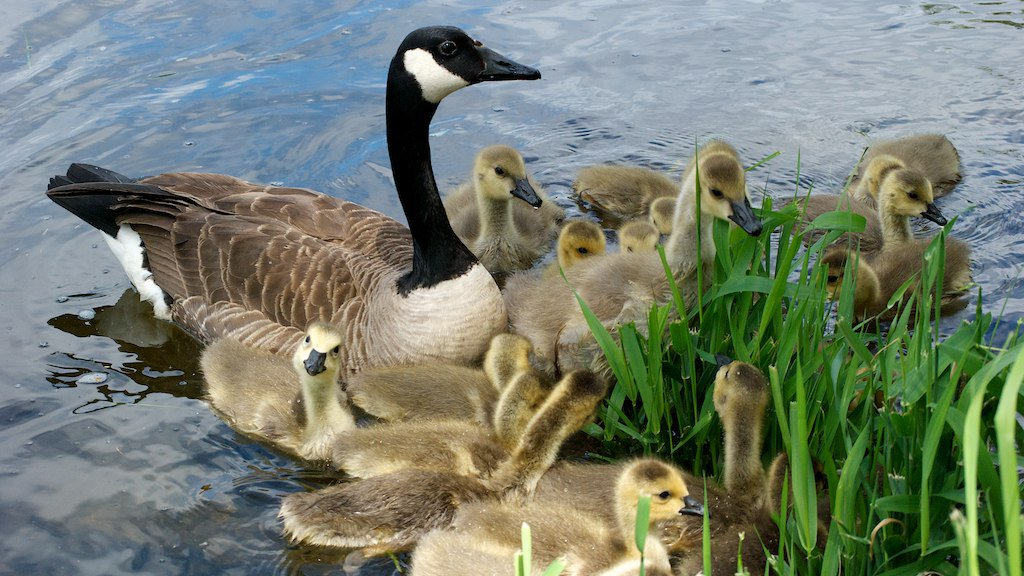goose: (40, 24, 545, 379)
